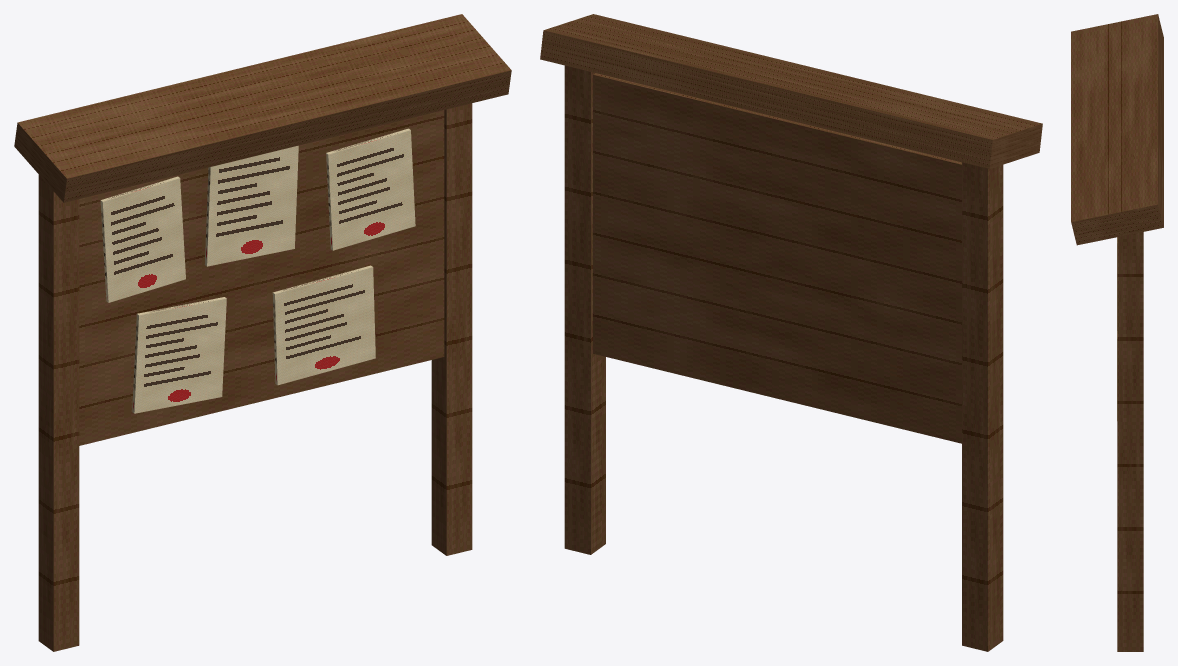
Rendered from quadro_de_missoes.glb.
3 renders of one model, left to right at view 1: azimuth 30°, elevation 25°; view 2: azimuth 150°, elevation 25°; view 3: azimuth 270°, elevation 25°, orthographic. The views are drawn at different scales.
Visible parts, largest first — view 1: quadro_de_missoes; view 2: quadro_de_missoes; view 3: quadro_de_missoes.
Part boxes in pixels (<box>): quadro_de_missoes: <box>14,14,511,651</box>; quadro_de_missoes: <box>540,14,1042,651</box>; quadro_de_missoes: <box>1071,14,1163,651</box>.
Size of the model in its own units: 1.72 by 1.91 by 0.3536.
Materials: 1 (1 with a texture image).
